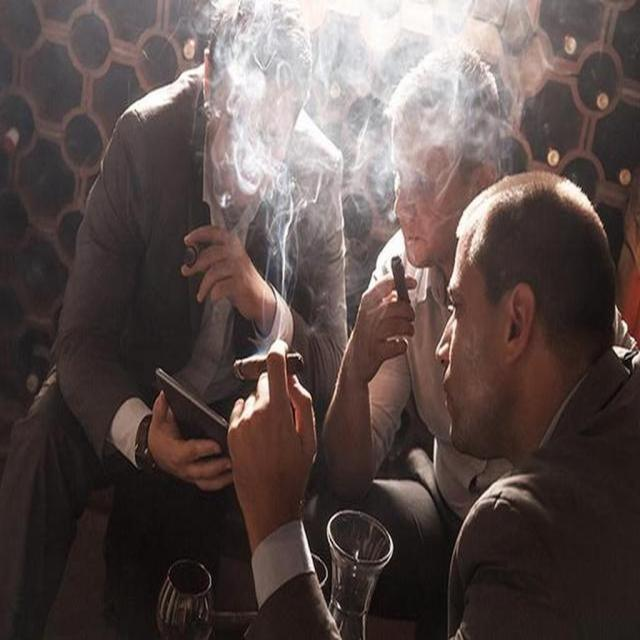smoking: (153, 19, 312, 282), (365, 43, 443, 328), (216, 289, 302, 422)
